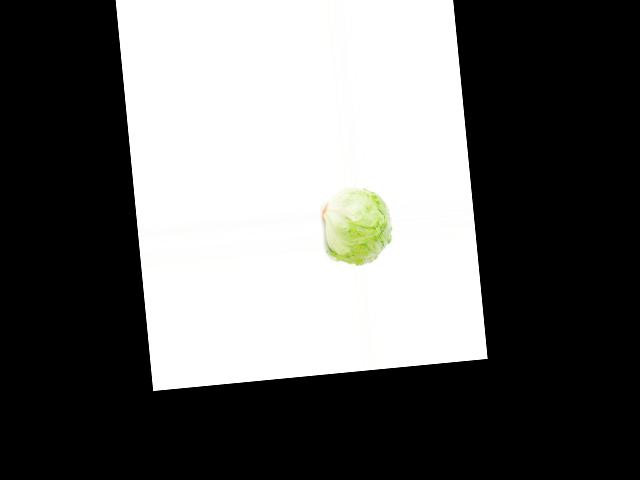lettuce: (322, 188, 395, 267)
